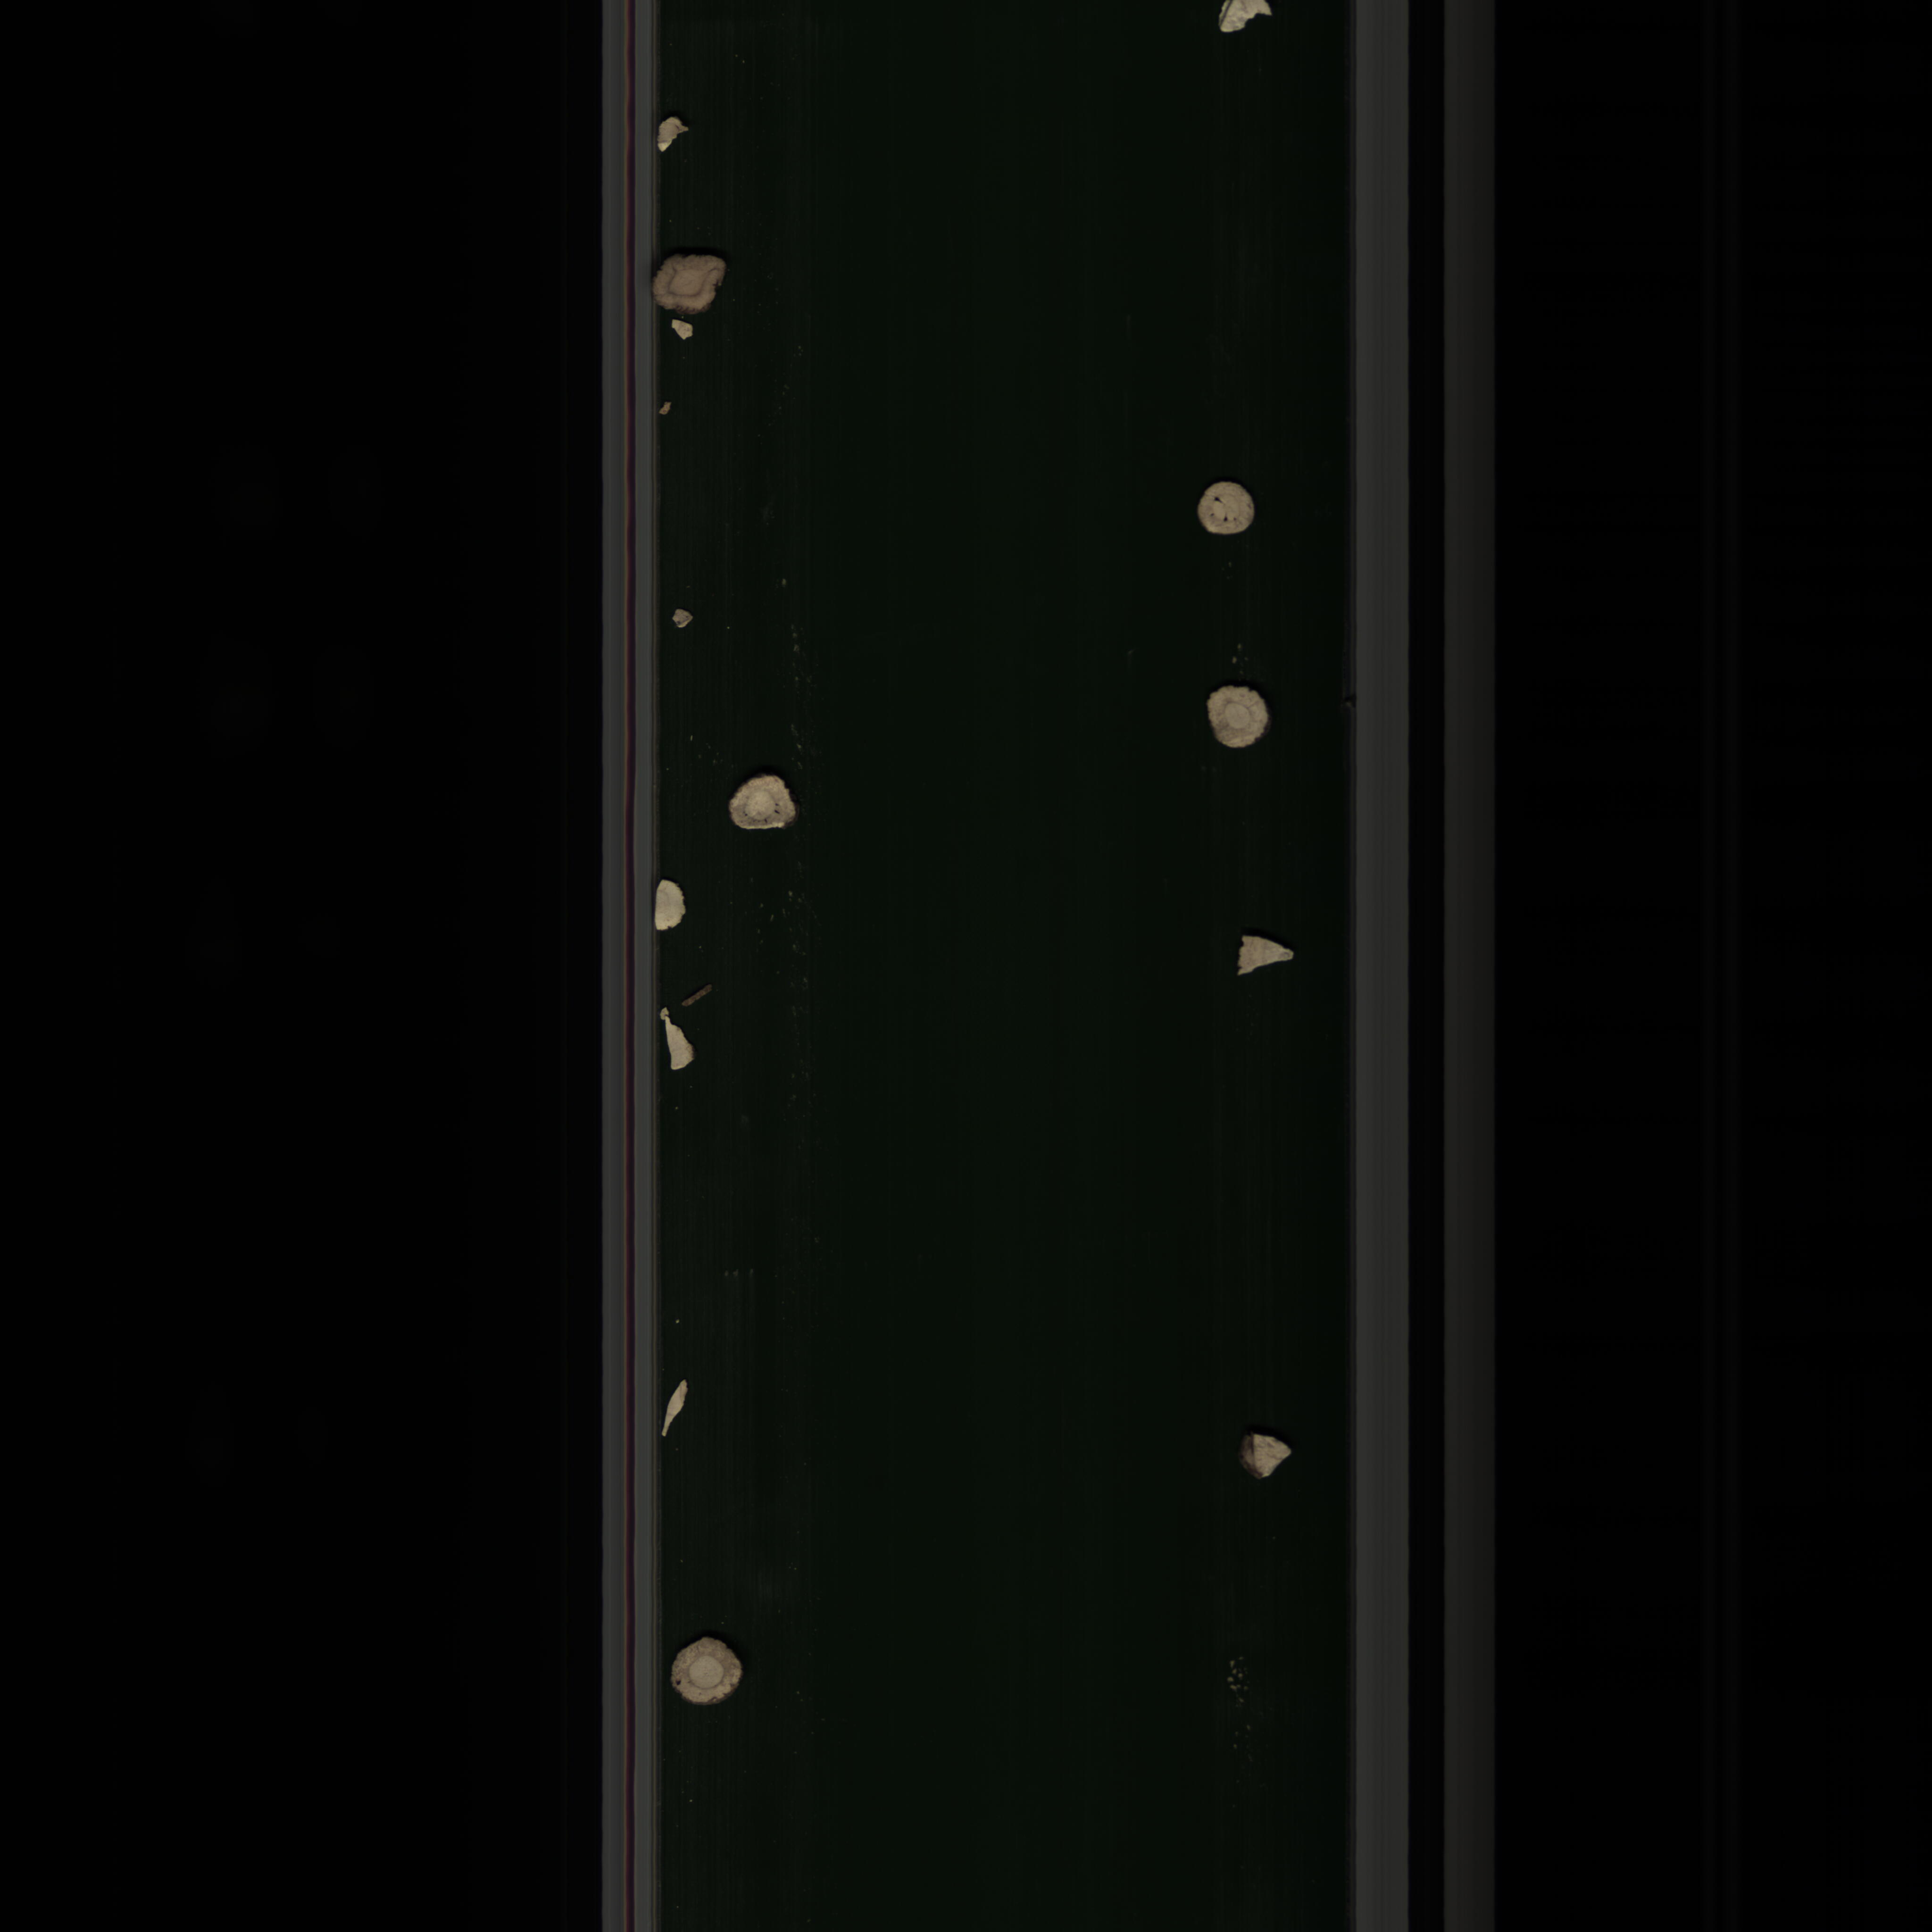debris: (1233, 1431, 1306, 1488), (1231, 924, 1302, 978), (658, 1005, 699, 1077), (648, 878, 692, 936), (658, 1375, 694, 1447), (667, 603, 704, 628)
hole: (1184, 469, 1276, 556)
moldy: (655, 249, 734, 317)
